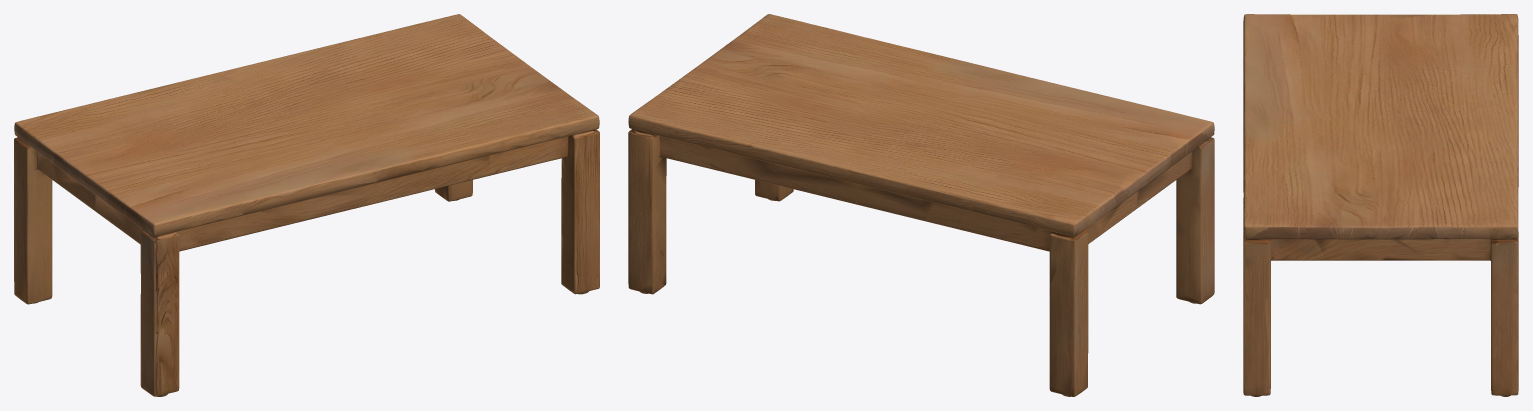
File: coffee_table.22853ebb.glb
3 views of the same model, side by side, from view 1: azimuth 30°, elevation 25°; view 2: azimuth 150°, elevation 25°; view 3: azimuth 270°, elevation 25° (orthographic). The views are drawn at different scales.
Visible parts, largest first — view 1: tripo_node_139711fc-e717-4844-a8aa-c9f607783878; view 2: tripo_node_139711fc-e717-4844-a8aa-c9f607783878; view 3: tripo_node_139711fc-e717-4844-a8aa-c9f607783878.
Boxes of the visible parts, bbox=[...] form: tripo_node_139711fc-e717-4844-a8aa-c9f607783878: bbox=[14, 14, 599, 396]; tripo_node_139711fc-e717-4844-a8aa-c9f607783878: bbox=[628, 14, 1214, 396]; tripo_node_139711fc-e717-4844-a8aa-c9f607783878: bbox=[1243, 14, 1518, 396].
Size of the model in its own units: 1.1 by 0.42 by 0.6.
1 material, 1 textured.
